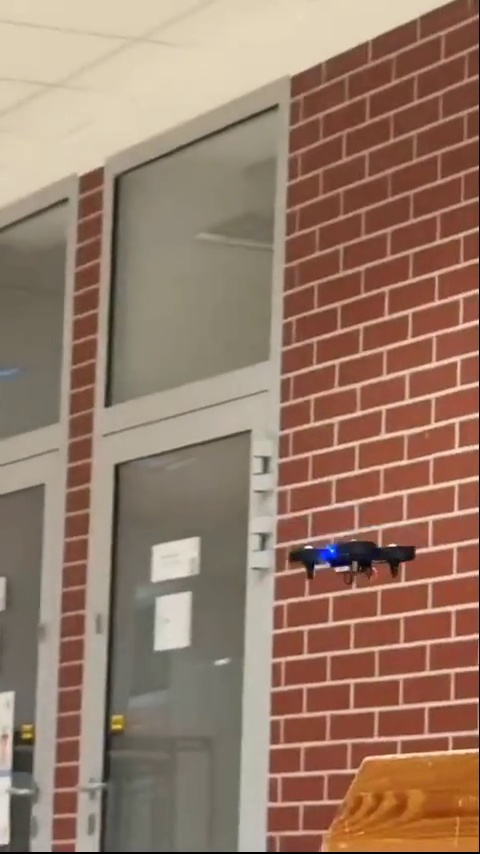drone: (289, 532, 412, 575)
